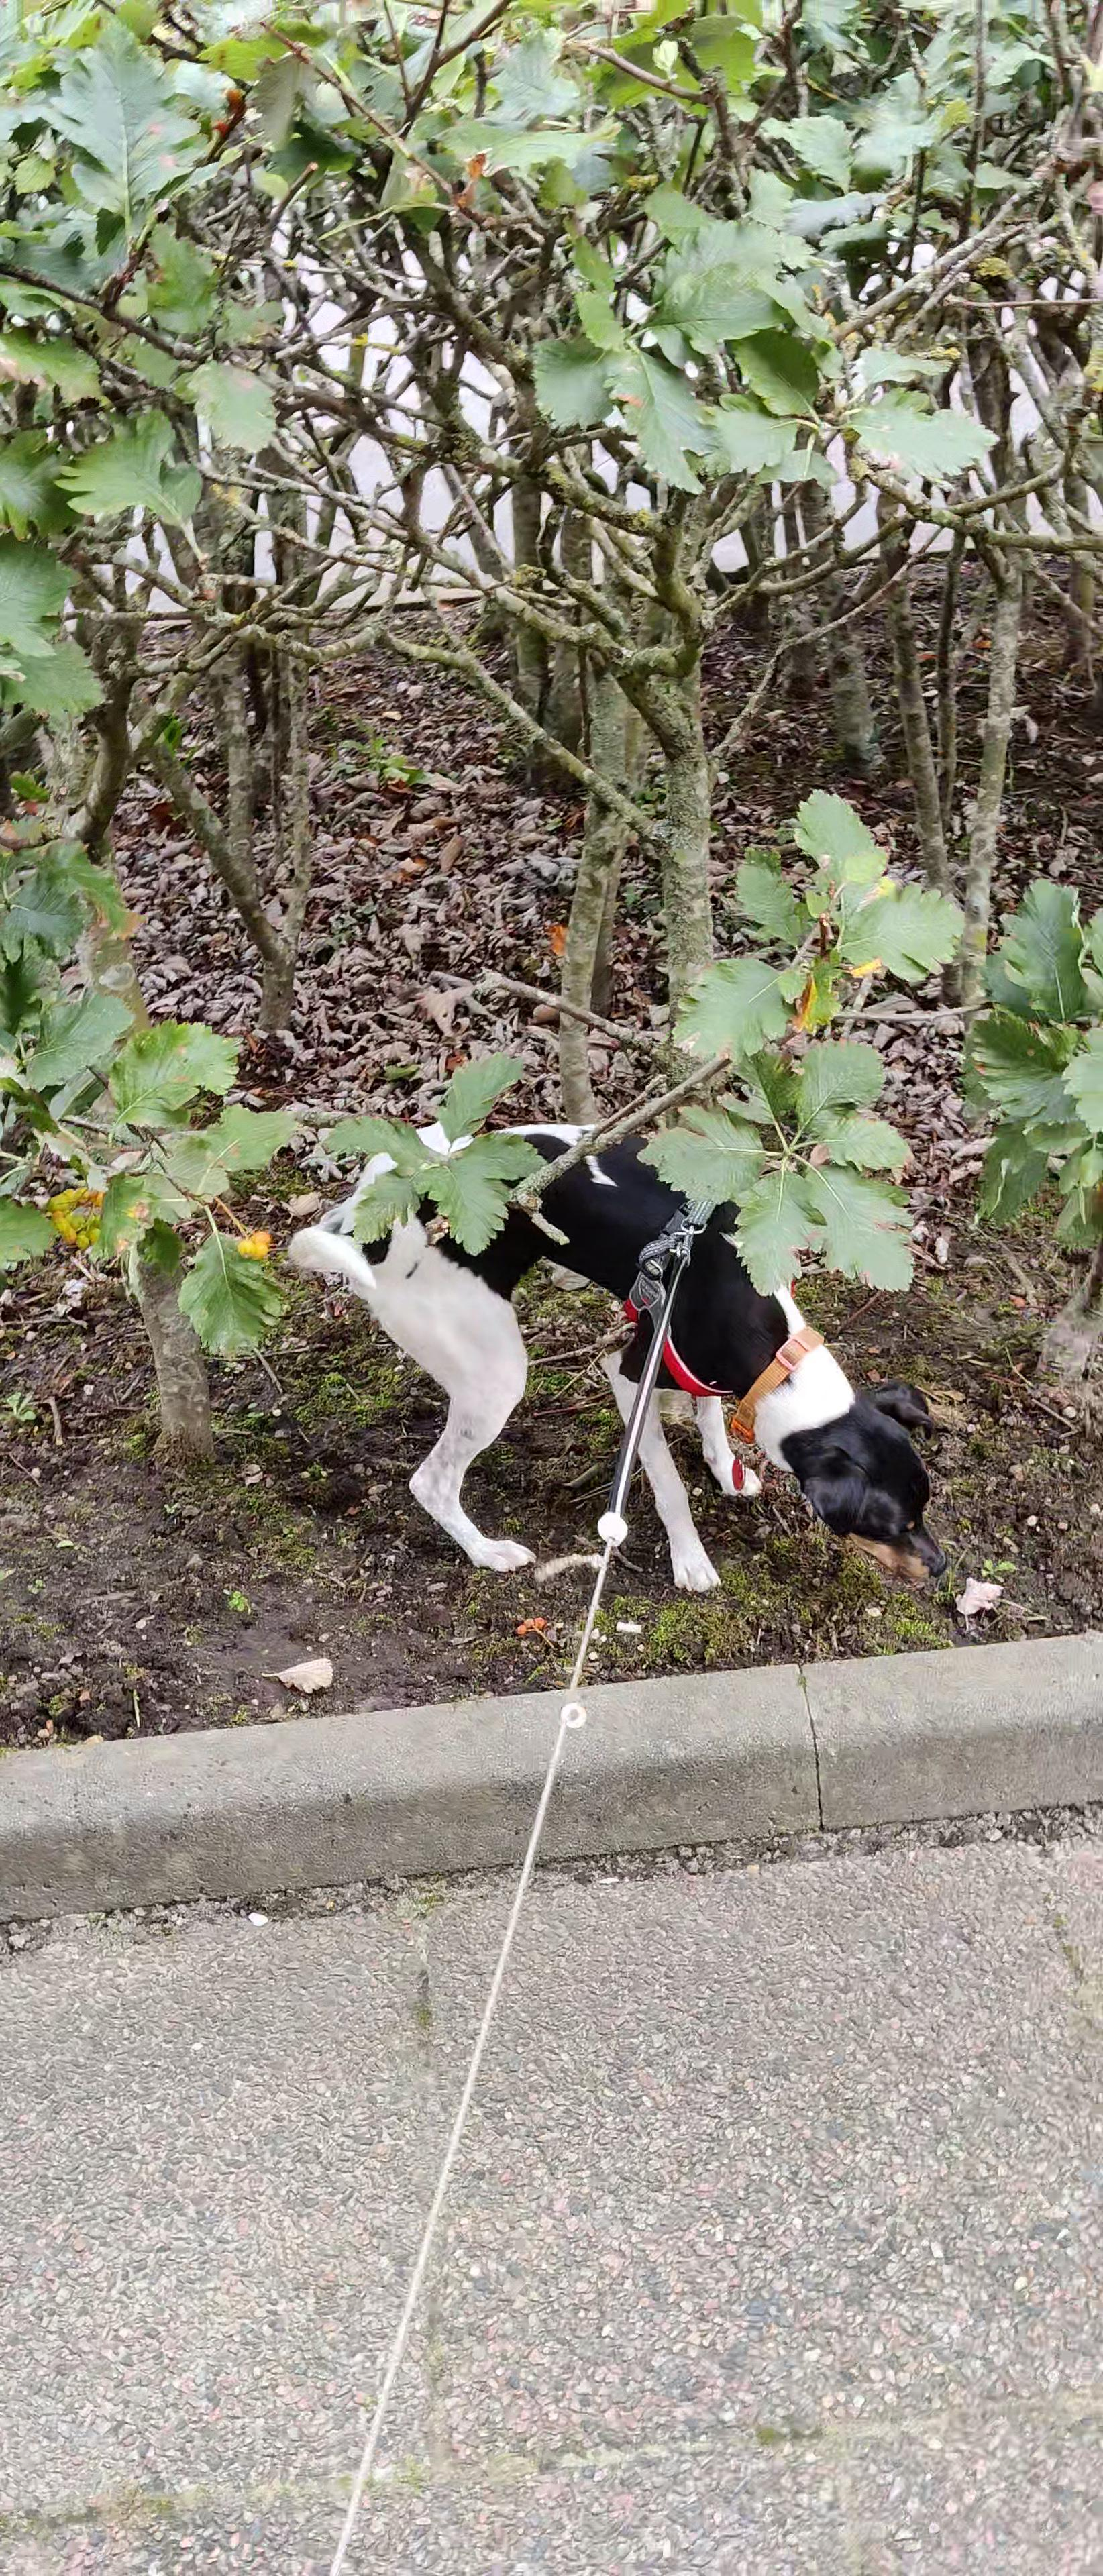Dog: (266, 1099, 975, 1598)
